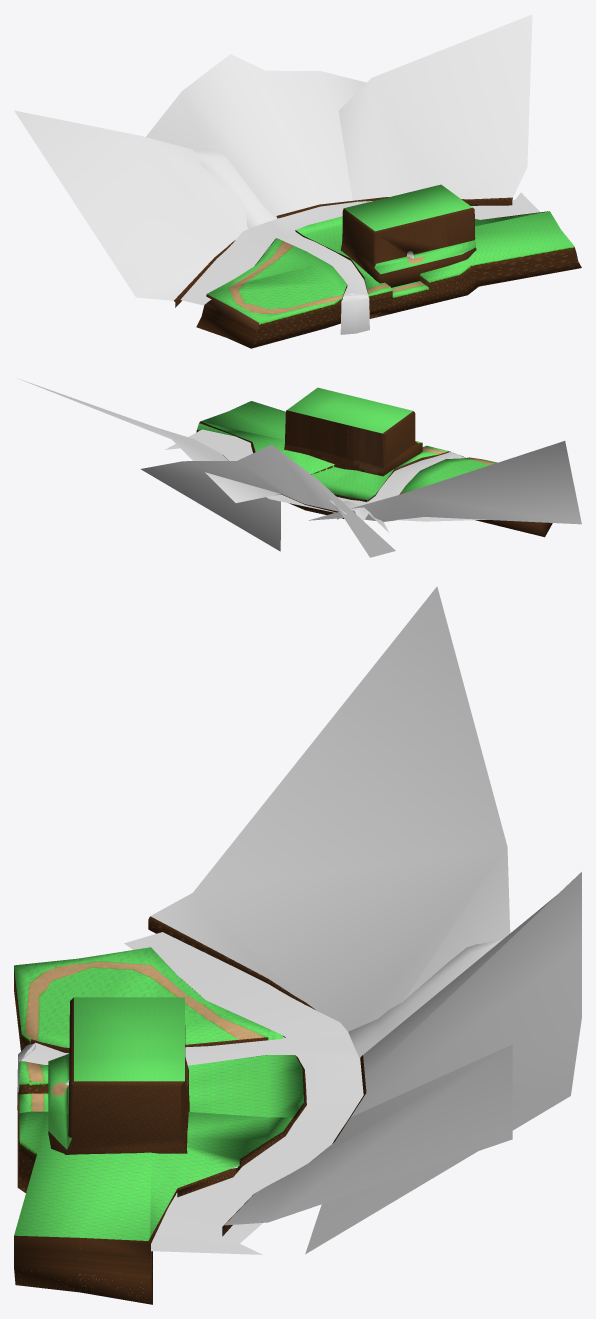
The model's file is World1.fbx.
The picture shows the model from 3 angles, top to bottom: view 1: azimuth 30°, elevation 25°; view 2: azimuth 150°, elevation 25°; view 3: azimuth 270°, elevation 25°; orthographic projection. The views are drawn at different scales.
Parts seen in each view (by area): view 1: Cube, Cube.001, Water, WaterFall; view 2: Cube, Cube.001, Water, WaterFall; view 3: Cube, Water, Cube.001, WaterFall.
Boxes of the visible parts, x1=… form: Cube: x1=14, y1=14, x2=581, y2=348; Cube.001: x1=340, y1=184, x2=476, y2=287; Water: x1=180, y1=192, x2=540, y2=305; WaterFall: x1=192, y1=149, x2=369, y2=334; Cube: x1=19, y1=379, x2=581, y2=557; Cube.001: x1=284, y1=387, x2=422, y2=476; Water: x1=165, y1=429, x2=485, y2=521; WaterFall: x1=329, y1=452, x2=465, y2=532; Cube: x1=14, y1=586, x2=581, y2=1304; Water: x1=21, y1=932, x2=363, y2=1254; Cube.001: x1=48, y1=997, x2=189, y2=1154; WaterFall: x1=17, y1=939, x2=502, y2=1110.
Bounding box in the file's own units: 12073 × 4713 × 6257.
